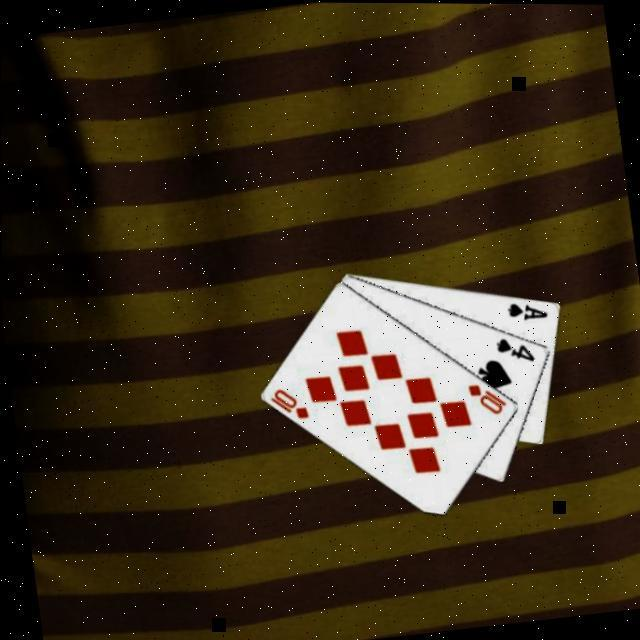10D: (465, 377, 511, 420), (267, 382, 313, 425)
4S: (492, 331, 538, 368)
AS: (504, 296, 552, 324)
